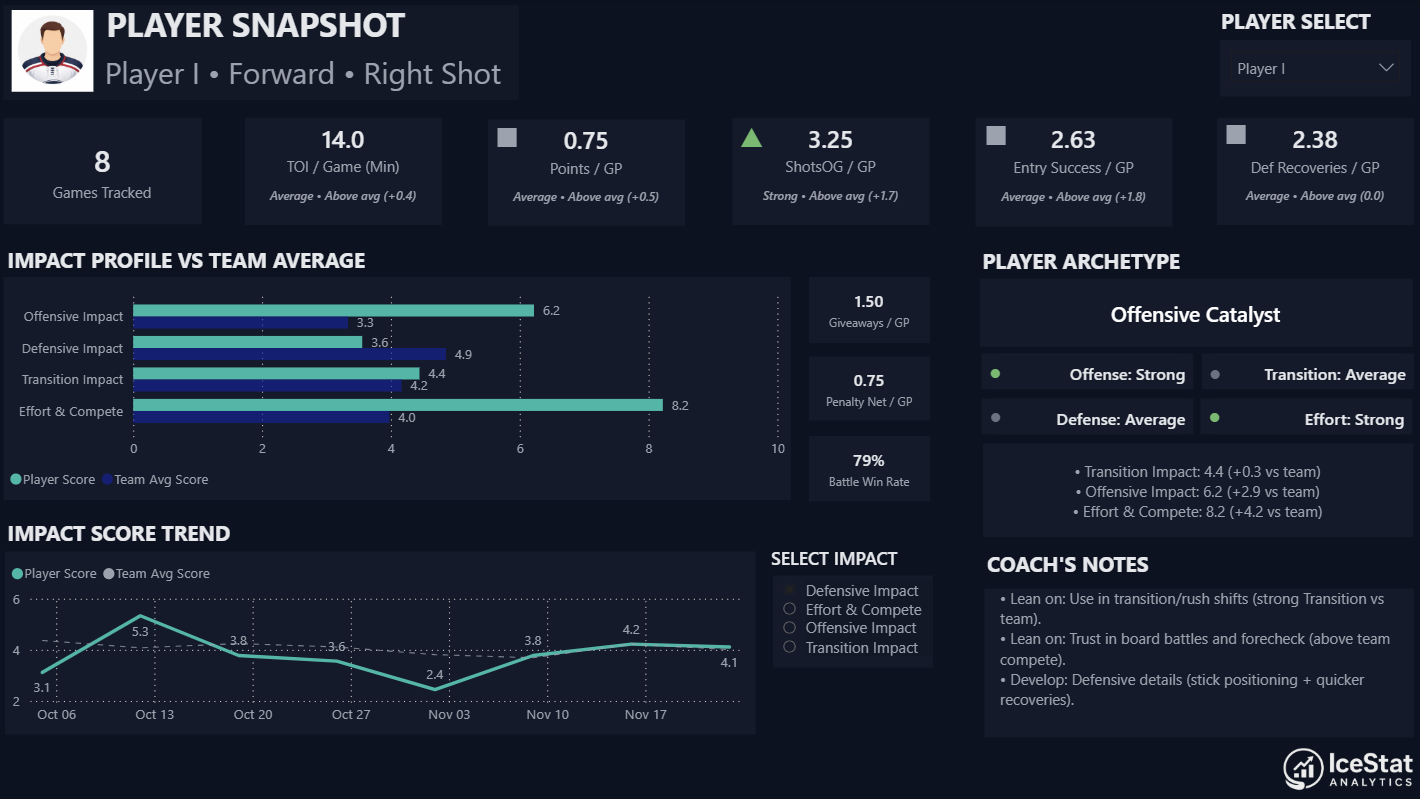

This screenshot's page, from the dashboard's own definition file:
{"tool":"powerbi","page":{"name":"Player Snapshot","canvas":[1280,720],"ordinal":0},"visuals":[{"type":"shape","box":[952.6,660.2,327,59.2],"z":0},{"type":"cardVisual","fields":{"Data":["MeasuresTable.Giveaways / GP"]},"box":[728.6,250.3,108.7,59],"z":1000,"group":"g1"},{"type":"image","box":[1146.3,671.3,133.3,40.7],"z":1000},{"type":"slicer","fields":{"Values":["DimPlayer.player_name"]},"box":[1098.2,37,171.5,50.6],"z":2000},{"type":"clusteredBarChart","fields":{"Category":["Score_Bars.Bar_Name"],"Y":["MeasuresTable.Selected Player Bar Score","MeasuresTable.Team Avg Bar Score"]},"box":[6.2,250.7,705.8,199.9],"z":3000},{"type":"cardVisual","fields":{"Data":["MeasuresTable.Games Tracked"]},"box":[6.2,107.2,177.8,95.4],"z":4000,"group":"g2"},{"type":"cardVisual","fields":{"Data":["MeasuresTable.Archetype Label"]},"box":[882.5,251.7,387.9,61.6],"z":4000,"group":"g4"},{"type":"lineChart","fields":{"Category":["DimDate.Date"],"Y":["MeasuresTable.Selected Player Bar Score (Trend)","MeasuresTable.Team Avg Impact (Trend)"]},"box":[7.5,496.1,673.5,163.7],"z":5000},{"type":"cardVisual","fields":{"Data":["MeasuresTable.Points / GP"]},"box":[440.9,108.4,176.8,95.1],"z":6000,"group":"g2"},{"type":"cardVisual","fields":{"Data":["MeasuresTable.Archetype Why Text"]},"box":[884.6,399.5,385.7,83.8],"z":6000,"group":"g4"},{"type":"slicer","fields":{"Values":["Score_Bars.Bar_Name"]},"box":[697,518.3,143.1,82.7],"z":7000},{"type":"shape","box":[7.1,6.8,462.2,84.8],"z":8000},{"type":"cardVisual","fields":{"Data":["MeasuresTable.ShotsOG / GP"]},"box":[660.5,107.2,176.8,96.3],"z":8000,"group":"g2"},{"type":"multiRowCard","fields":{"Values":["MeasuresTable.Player Snapshot Header"]},"box":[87.5,4,318.9,53.8],"z":9000},{"type":"textbox","box":[5,216.1,449.2,40.7],"z":10000},{"type":"cardVisual","fields":{"Data":["MeasuresTable.TOI / Game (Min)"]},"box":[222.2,107.3,176.8,96.3],"z":11000,"group":"g2"},{"type":"textbox","box":[5,461.7,449.2,40.7],"z":11000},{"type":"image","box":[6,11.1,90.3,73.2],"z":12000},{"type":"multiRowCard","fields":{"Values":["MeasuresTable.Player Header"]},"box":[87.7,48.7,490.5,46.5],"z":13000},{"type":"textbox","box":[1093.3,2.5,181.4,40.7],"z":14000},{"type":"cardVisual","fields":{"Data":["MeasuresTable.Entry Success / GP"]},"box":[878.6,107.2,176.8,97.5],"z":14000,"group":"g2"},{"type":"group","id":"g1","title":"Group 3","box":[728.6,250.3,108.7,199.9],"z":15000},{"type":"textbox","box":[880.3,218.4,261.7,40.7],"z":16000,"group":"g4"},{"type":"cardVisual","fields":{"Data":["MeasuresTable.Def Recoveries / GP"]},"box":[1095.2,107.2,176.8,96.3],"z":17000,"group":"g2"},{"type":"textbox","box":[690.9,486.3,217.2,39.5],"z":17000},{"type":"group","id":"g2","title":"Group 1","box":[6.2,107.2,1265.8,97.5],"z":18000},{"type":"cardVisual","fields":{"Data":["MeasuresTable.Points Tier Icon"]},"box":[447.9,93.4,61.7,59.2],"z":19000},{"type":"cardVisual","fields":{"Data":["MeasuresTable.Shots Tier Icon"]},"box":[668,103.7,56.8,38.3],"z":20000},{"type":"cardVisual","fields":{"Data":["MeasuresTable.Entries Tier Icon"]},"box":[886.4,95.9,48.1,50.6],"z":21000},{"type":"cardVisual","fields":{"Data":["MeasuresTable.Def Recoveries Tier Icon"]},"box":[1102,97.1,50.6,46.9],"z":22000},{"type":"tableEx","fields":{"Values":["MeasuresTable.Auto Coaching Instructions"]},"box":[886.3,501.9,385.6,161.3],"z":23000,"group":"g4"},{"type":"cardVisual","fields":{"Data":["MeasuresTable.Offense Chip Label"]},"box":[884.2,318.8,190,32],"z":24000,"group":"g4"},{"type":"cardVisual","fields":{"Data":["MeasuresTable.Penalty Net / GP"]},"box":[728.6,321.8,108.7,57.2],"z":24000,"group":"g1"},{"type":"cardVisual","fields":{"Data":["MeasuresTable.Puck Battle Win Rate"]},"box":[728.6,392.7,108.7,58.4],"z":25000,"group":"g1"},{"type":"textbox","box":[885.1,486.2,388.8,39],"z":25000,"group":"g4"},{"type":"cardVisual","fields":{"Data":["MeasuresTable.Offense Chip Dot"]},"box":[863.6,304,65.4,54.2],"z":26000,"group":"g4"},{"type":"cardVisual","fields":{"Data":["MeasuresTable.Defense Chip Label"]},"box":[884.2,359.4,190,32],"z":27000,"group":"g4"},{"type":"cardVisual","fields":{"Data":["MeasuresTable.Defense Chip Dot"]},"box":[878.1,352,36.3,40.7],"z":28000,"group":"g4"},{"type":"cardVisual","fields":{"Data":["MeasuresTable.Transition Chip Label"]},"box":[1081.2,319.9,190,32],"z":29000,"group":"g4"},{"type":"cardVisual","fields":{"Data":["MeasuresTable.Transition Chip Dot"]},"box":[1062.2,298,61.2,71.2],"z":30000,"group":"g4"},{"type":"cardVisual","fields":{"Data":["MeasuresTable.Effort Chip Label"]},"box":[1080.6,358.5,190,32],"z":31000,"group":"g3"},{"type":"cardVisual","fields":{"Data":["MeasuresTable.Effort Chip Dot"]},"box":[1074.6,352.3,36.3,40.7],"z":32000,"group":"g3"},{"type":"group","id":"g3","title":"Group 2","box":[1074.6,352.3,196,40.7],"z":32001,"group":"g4"},{"type":"group","id":"g4","title":"Group 4","box":[863.6,218.4,410.4,444.8],"z":32002}]}

Visuals, with their boxes in screenshot pixels (x1, y1, x2, y2), scaled from the page's 1280x720 canvas onto the 1420x799 screenshot:
shape: bbox=(1057, 733, 1419, 798)
cardVisual - MeasuresTable.Giveaways / GP: bbox=(808, 278, 929, 343)
image: bbox=(1272, 745, 1419, 790)
slicer - DimPlayer.player_name: bbox=(1218, 41, 1409, 97)
clusteredBarChart - Score_Bars.Bar_Name x MeasuresTable.Selected Player Bar Score: bbox=(7, 278, 790, 500)
cardVisual - MeasuresTable.Games Tracked: bbox=(7, 119, 204, 225)
cardVisual - MeasuresTable.Archetype Label: bbox=(979, 279, 1409, 348)
lineChart - DimDate.Date x MeasuresTable.Selected Player Bar Score (Trend): bbox=(8, 551, 755, 732)
cardVisual - MeasuresTable.Points / GP: bbox=(489, 120, 685, 226)
cardVisual - MeasuresTable.Archetype Why Text: bbox=(981, 443, 1409, 536)
slicer - Score_Bars.Bar_Name: bbox=(773, 575, 932, 667)
shape: bbox=(8, 8, 521, 102)
cardVisual - MeasuresTable.ShotsOG / GP: bbox=(733, 119, 929, 226)
multiRowCard - MeasuresTable.Player Snapshot Header: bbox=(97, 4, 451, 64)
textbox: bbox=(6, 240, 504, 285)
cardVisual - MeasuresTable.TOI / Game (Min): bbox=(247, 119, 443, 226)
textbox: bbox=(6, 512, 504, 558)
image: bbox=(7, 12, 107, 94)
multiRowCard - MeasuresTable.Player Header: bbox=(97, 54, 641, 106)
textbox: bbox=(1213, 3, 1414, 48)
cardVisual - MeasuresTable.Entry Success / GP: bbox=(975, 119, 1171, 227)
"Group 3" group: bbox=(808, 278, 929, 500)
textbox: bbox=(977, 242, 1267, 288)
cardVisual - MeasuresTable.Def Recoveries / GP: bbox=(1215, 119, 1411, 226)
textbox: bbox=(766, 540, 1007, 583)
"Group 1" group: bbox=(7, 119, 1411, 227)
cardVisual - MeasuresTable.Points Tier Icon: bbox=(497, 104, 565, 169)
cardVisual - MeasuresTable.Shots Tier Icon: bbox=(741, 115, 804, 158)
cardVisual - MeasuresTable.Entries Tier Icon: bbox=(983, 106, 1037, 163)
cardVisual - MeasuresTable.Def Recoveries Tier Icon: bbox=(1223, 108, 1279, 160)
tableEx - MeasuresTable.Auto Coaching Instructions: bbox=(983, 557, 1411, 736)
cardVisual - MeasuresTable.Offense Chip Label: bbox=(981, 354, 1192, 389)
cardVisual - MeasuresTable.Penalty Net / GP: bbox=(808, 357, 929, 421)
cardVisual - MeasuresTable.Puck Battle Win Rate: bbox=(808, 436, 929, 501)
textbox: bbox=(982, 540, 1413, 583)
cardVisual - MeasuresTable.Offense Chip Dot: bbox=(958, 337, 1031, 398)
cardVisual - MeasuresTable.Defense Chip Label: bbox=(981, 399, 1192, 434)
cardVisual - MeasuresTable.Defense Chip Dot: bbox=(974, 391, 1014, 436)
cardVisual - MeasuresTable.Transition Chip Label: bbox=(1199, 355, 1410, 391)
cardVisual - MeasuresTable.Transition Chip Dot: bbox=(1178, 331, 1246, 410)
cardVisual - MeasuresTable.Effort Chip Label: bbox=(1199, 398, 1410, 433)
cardVisual - MeasuresTable.Effort Chip Dot: bbox=(1192, 391, 1232, 436)
"Group 2" group: bbox=(1192, 391, 1410, 436)
"Group 4" group: bbox=(958, 242, 1413, 736)
